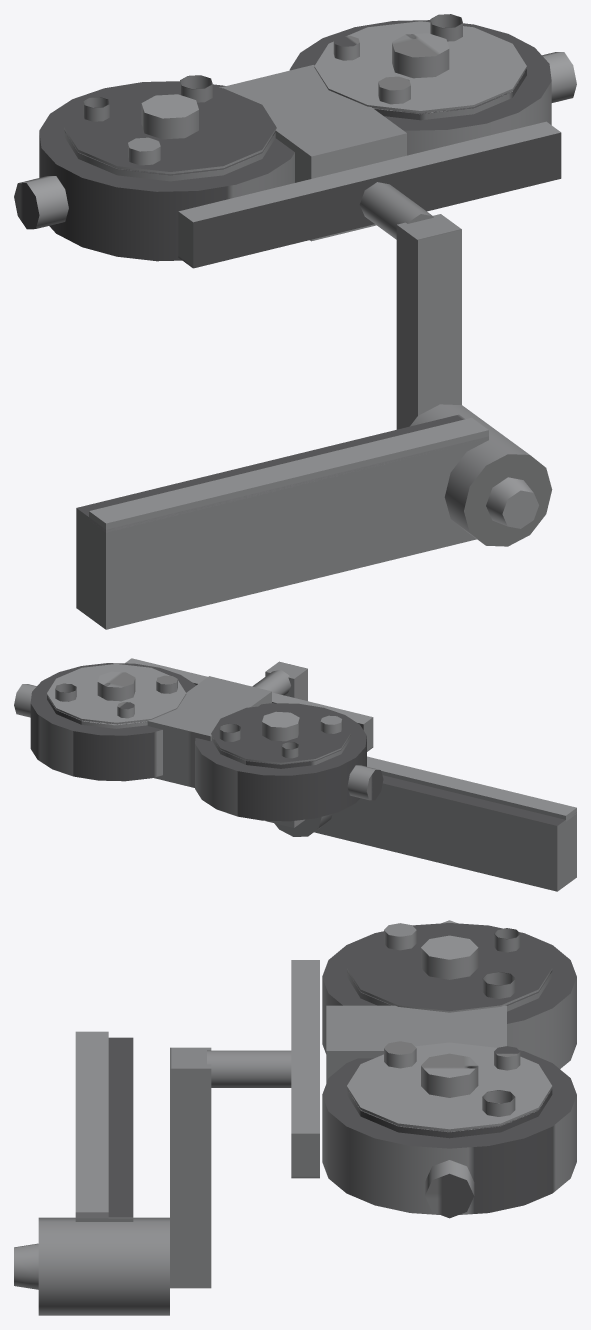
3 views of the same model, one above another, from view 1: azimuth 30°, elevation 25°; view 2: azimuth 150°, elevation 25°; view 3: azimuth 270°, elevation 25° (orthographic). The views are drawn at different scales.
Bounding box in the file's own units: 0.885 × 0.414 × 0.685.
